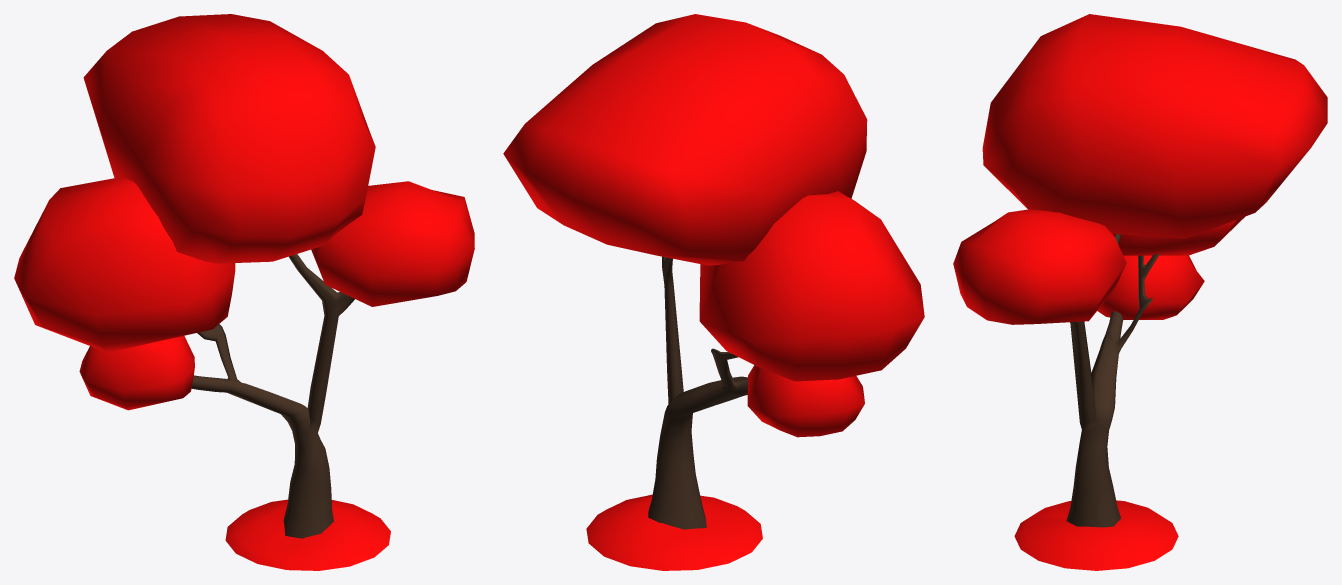
The model's file is Red tree 4.fbx.
3 renders of one model, left to right at view 1: azimuth 30°, elevation 25°; view 2: azimuth 150°, elevation 25°; view 3: azimuth 270°, elevation 25°, orthographic. The views are drawn at different scales.
Visible parts, largest first — view 1: Tree-04.002; view 2: Tree-04.002; view 3: Tree-04.002.
Boxes of the visible parts, left/top/right/bottom form: Tree-04.002: left=14, top=14, right=474, bottom=570; Tree-04.002: left=503, top=14, right=924, bottom=570; Tree-04.002: left=953, top=14, right=1327, bottom=570.
Size of the model in its own units: 369 by 442 by 313.
